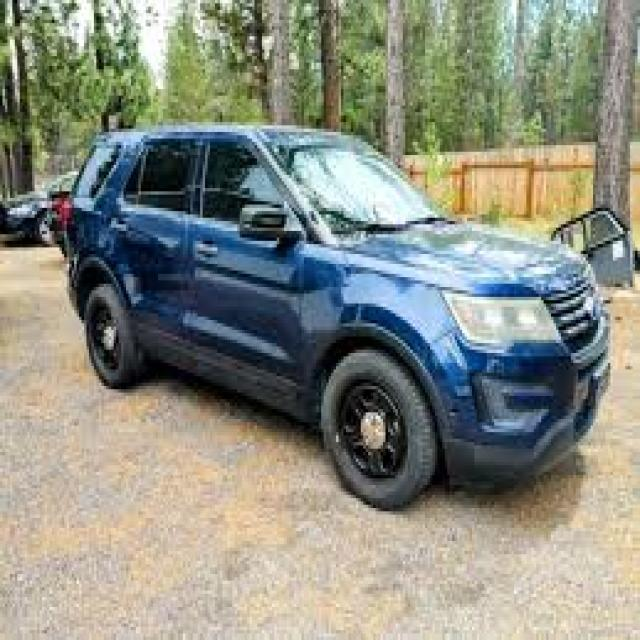cop: (62, 122, 619, 517)
